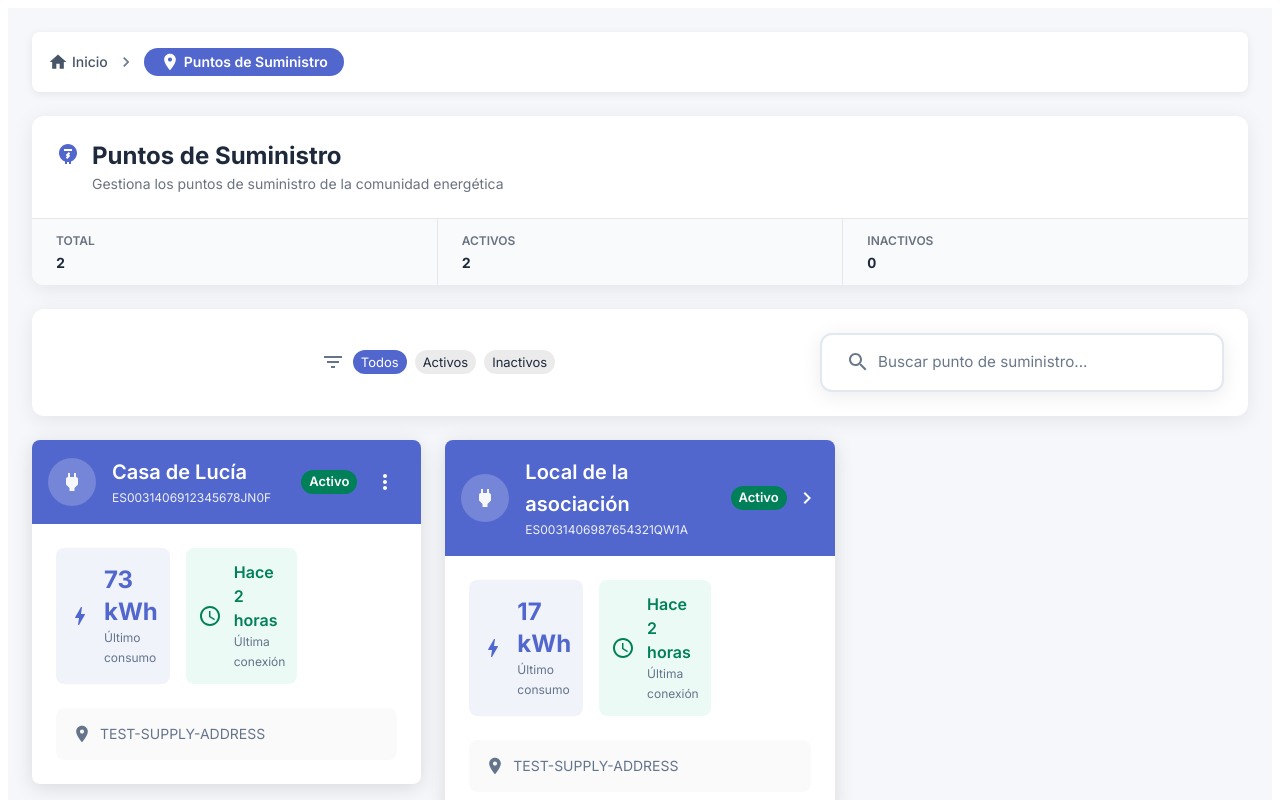
Test: deleting a supply from its card menu › UI-SUP-002 sends nothing when the confirmation is dismissed
This screenshot has width=1280, height=800.
What coordinates should you click on to do the following:
click the button named "Más acciones para Casa de Lucía"
I would click on:
 (385, 482)
Its box is [365,462,405,502].
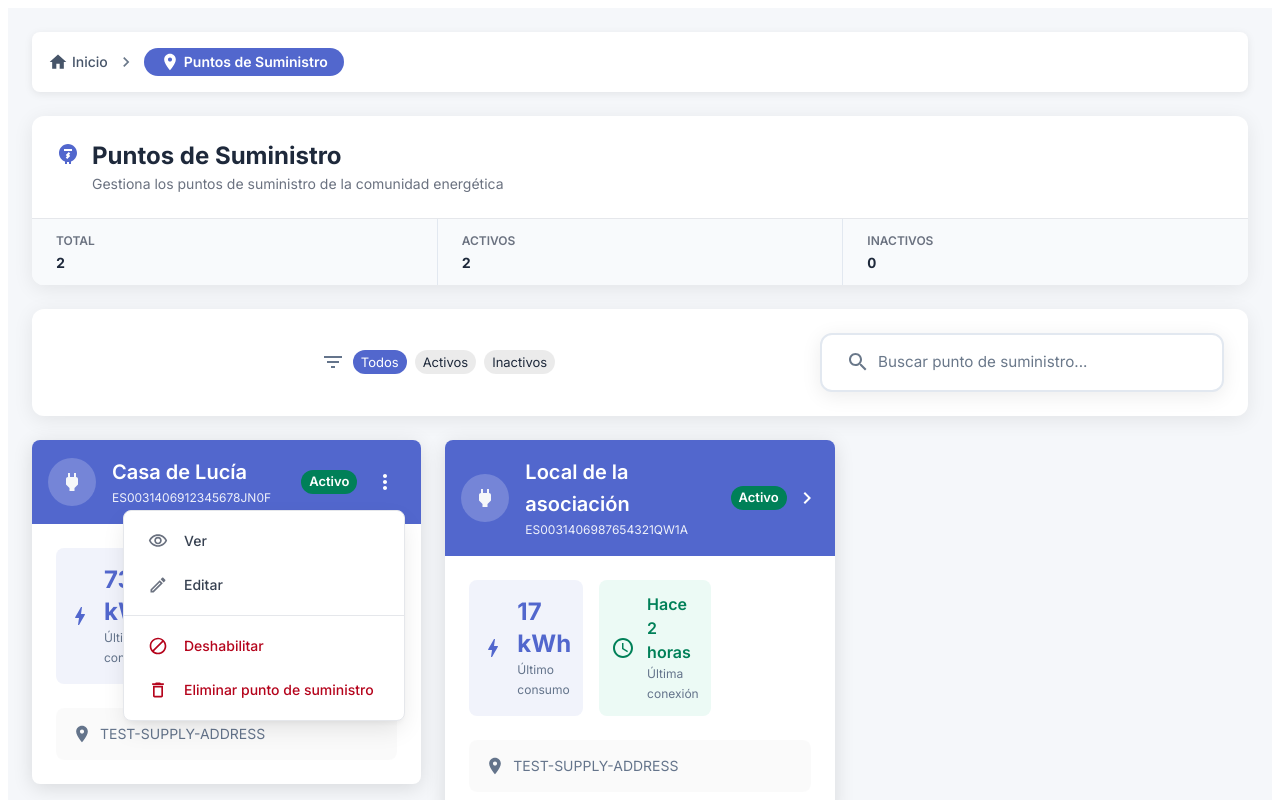
What coordinates should you click on to do the following:
click the menu item "Eliminar punto de suministro"
I would click on:
 (261, 690)
Its box is [148,680,374,700].
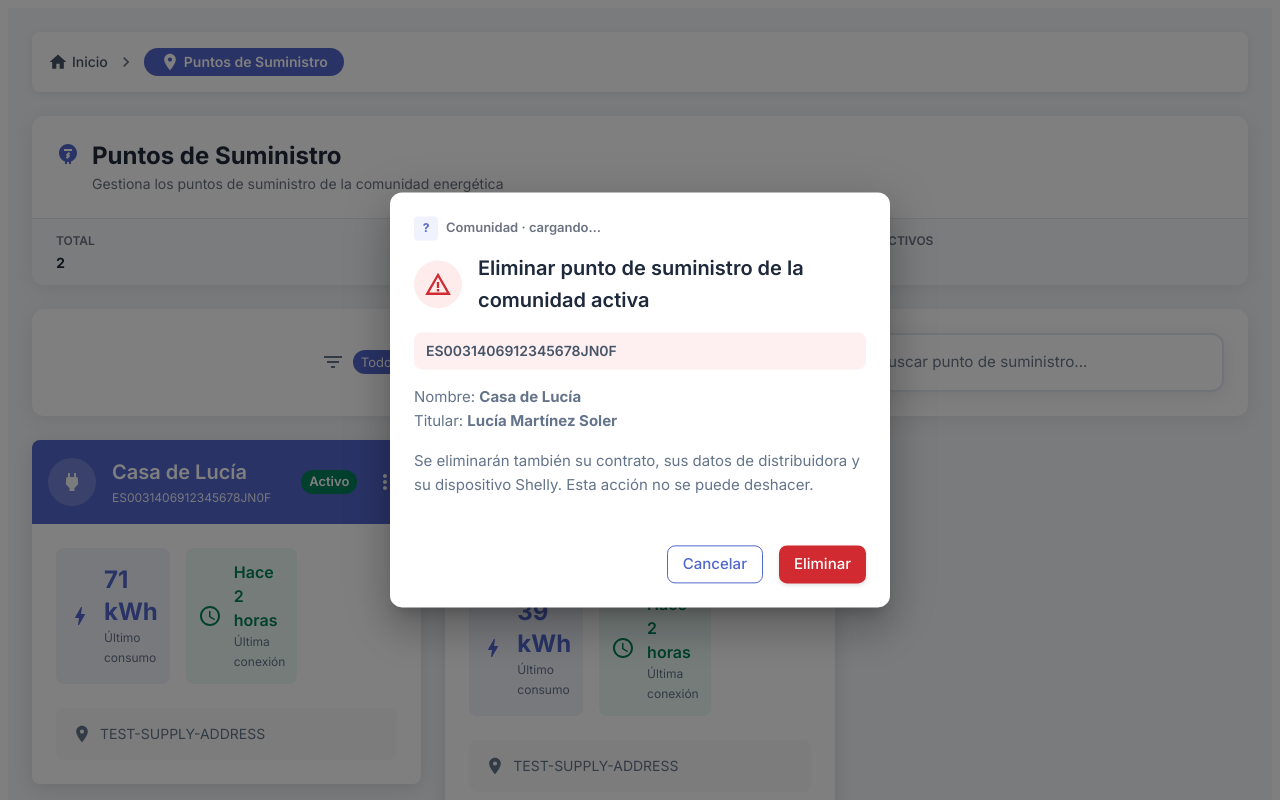
What coordinates should you click on to do the following:
click the button "Cancelar"
I would click on:
 (715, 565)
Its box is [667,545,763,584].
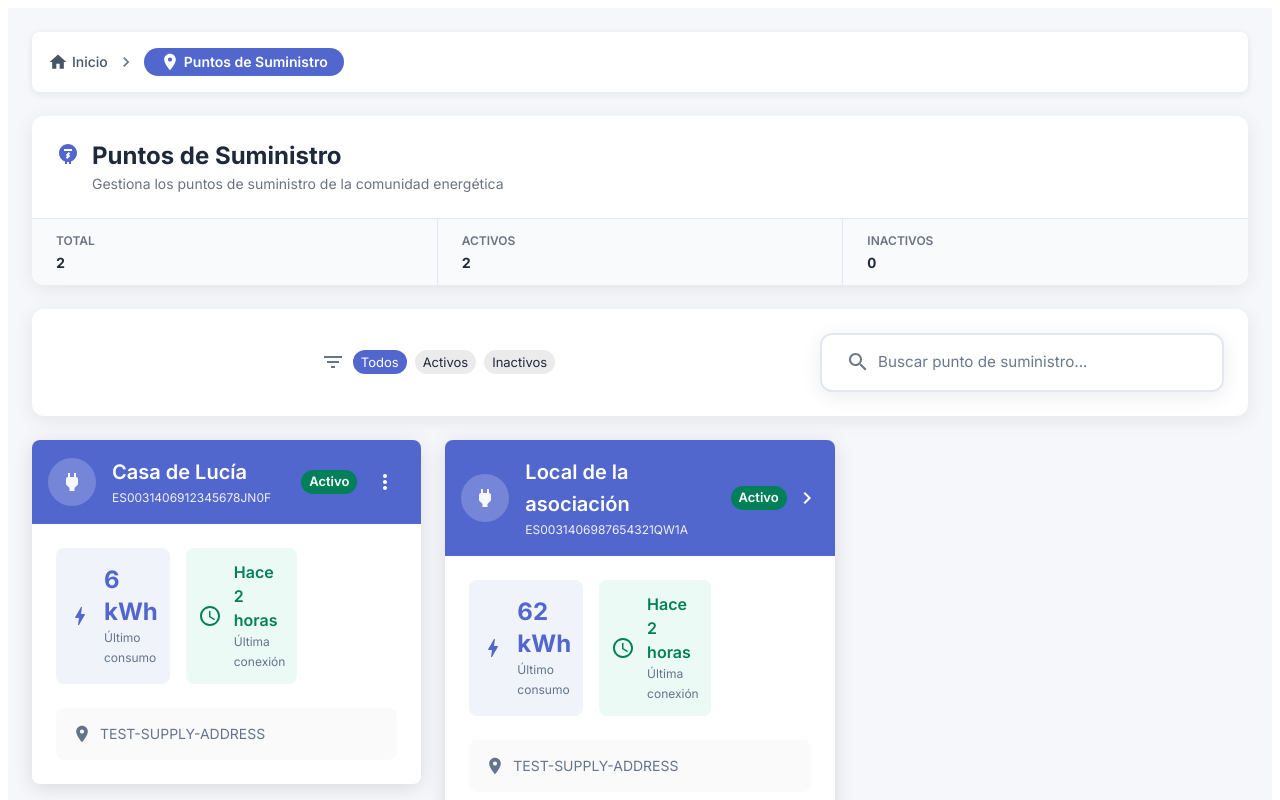
Check: the heading "Casa de Lucía" is shown, box [112,460,247,484]
Check: the heading "Eliminar punto de suministro de " is gone
